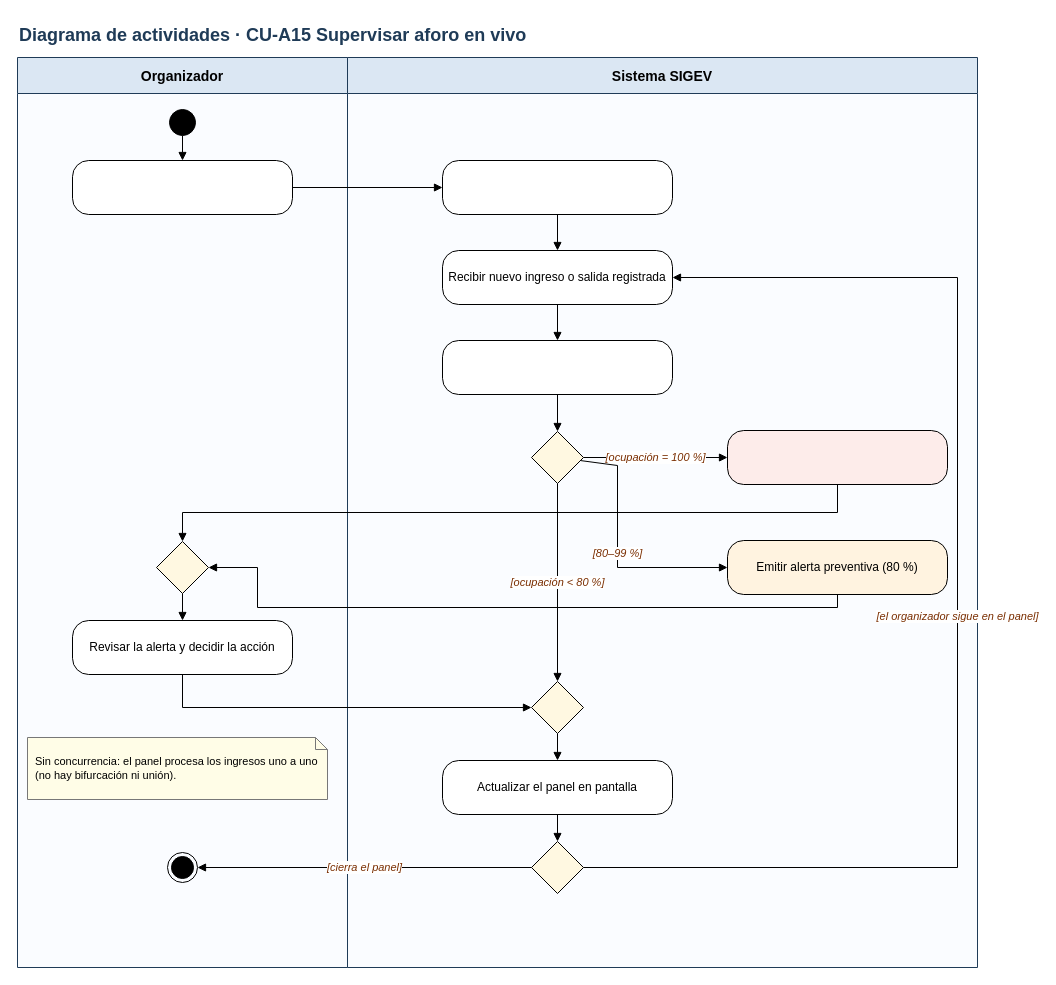
This 1056x985 diagram has some shape labels left out. The shapes that lost their labels are listed below. From the top down, each one's centre as x and y in pixels, then its label:
point 182,187: Abrir panel de aforo del evento
point 557,187: Mostrar ocupación total y por puerta
point 557,367: Recalcular porcentaje de ocupación
point 837,457: Bloquear nuevos ingresos y alertar (100 %)
